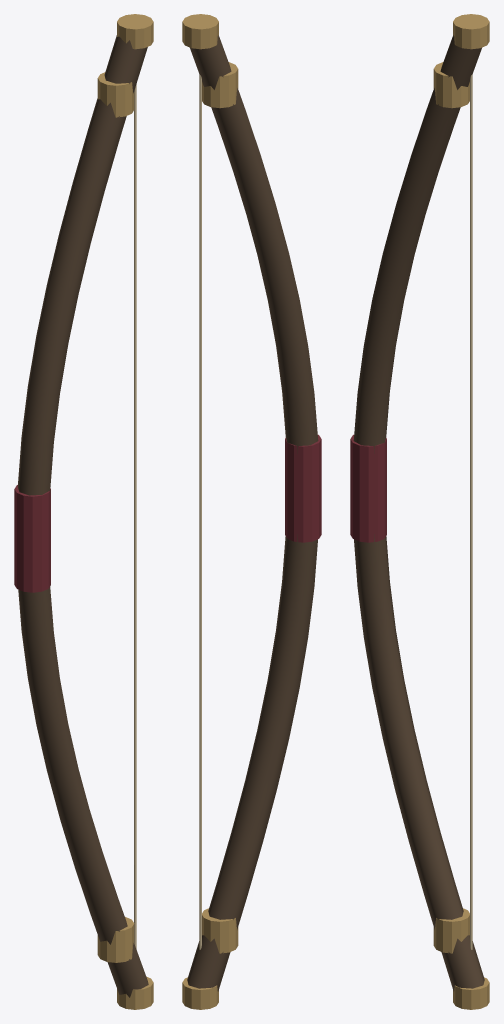
3 views of the same model, side by side, from view 1: azimuth 30°, elevation 25°; view 2: azimuth 210°, elevation 25°; view 3: azimuth 330°, elevation 25° (orthographic).
Visible parts, largest first — view 1: TV-053 Yew Sentinel; view 2: TV-053 Yew Sentinel; view 3: TV-053 Yew Sentinel.
Part boxes in pixels (x1,y1,x2,y2): TV-053 Yew Sentinel: (14, 14, 153, 1009); TV-053 Yew Sentinel: (182, 14, 321, 1009); TV-053 Yew Sentinel: (350, 14, 489, 1009).
Size of the model in its own units: 0.212 by 1.48 by 0.05.
